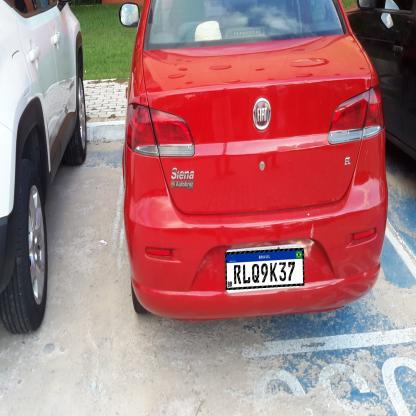PlacaM: (225, 248, 305, 290)
